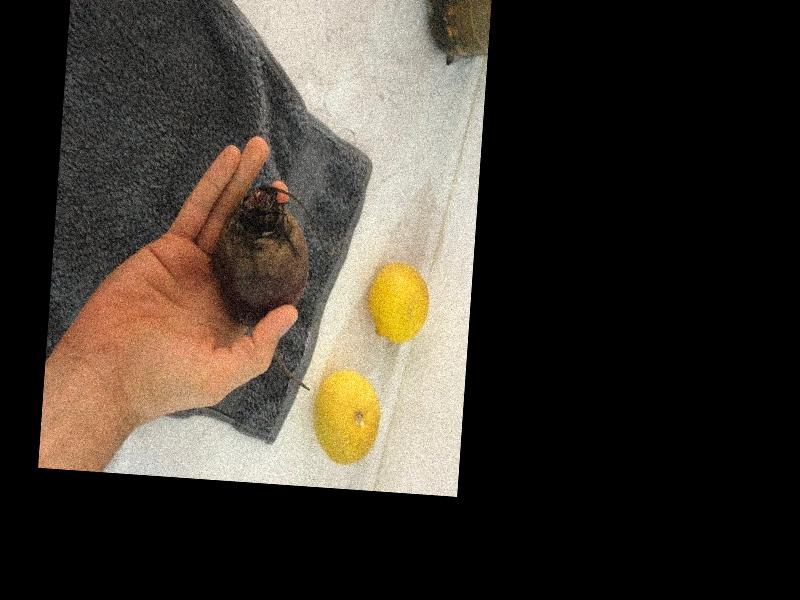Beet: (206, 183, 323, 391)
